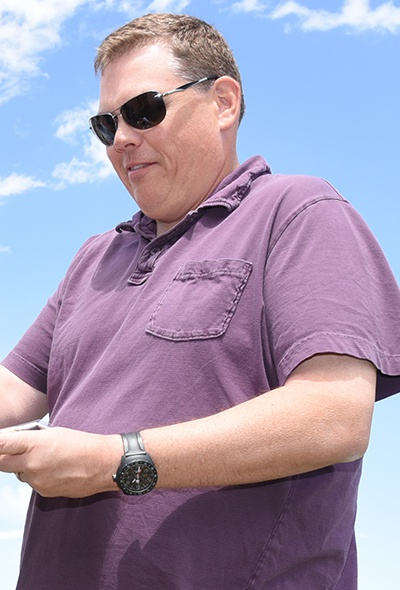bad: (67, 67, 196, 196)
